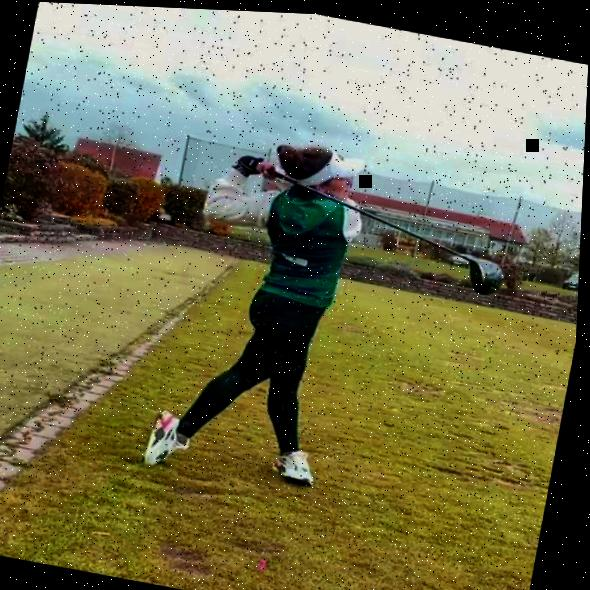ClubHead: (466, 252, 508, 295)
